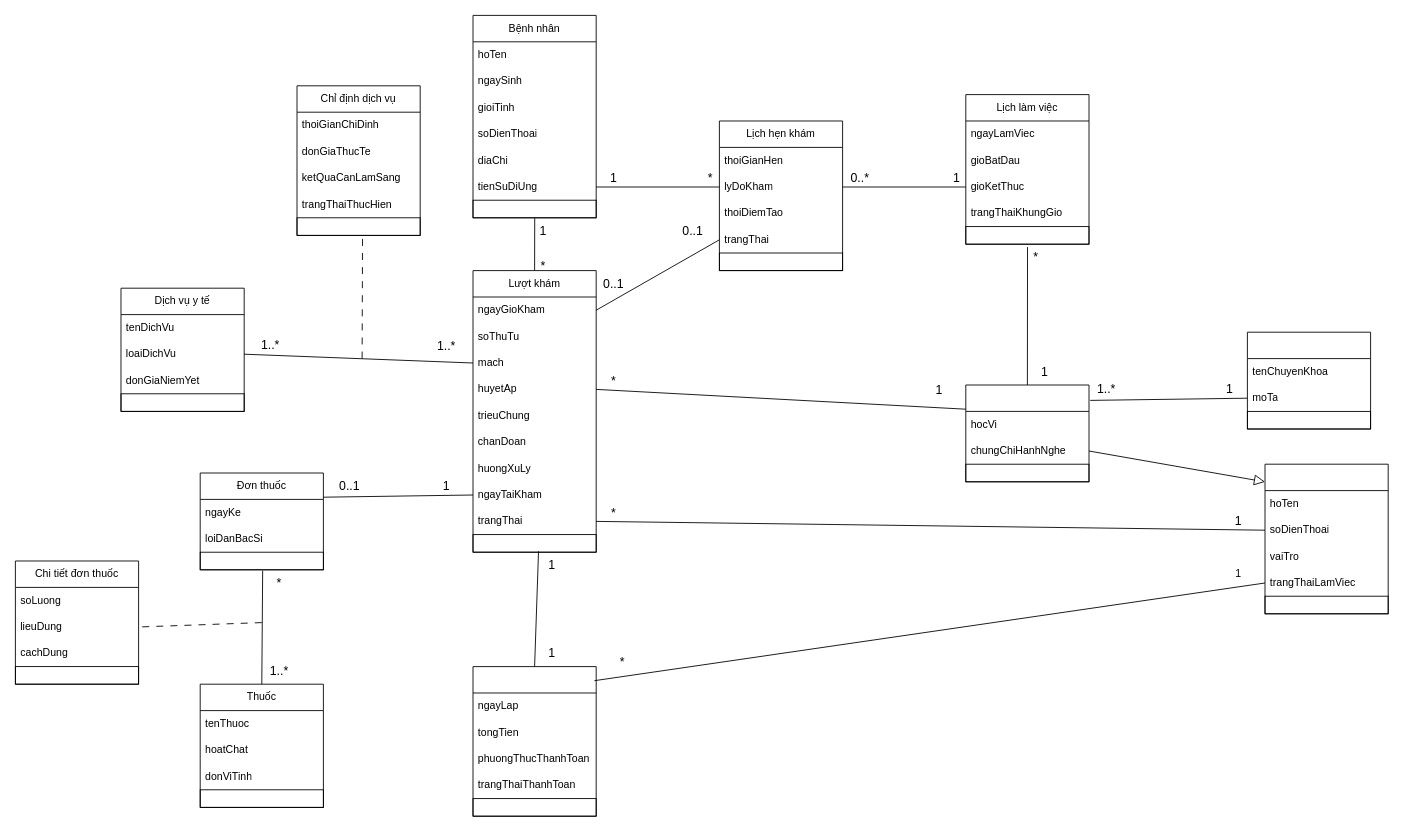
Some shapes in this 1404 by 832 pixel diagram are drawn without their labels. The shapes that lost their labels are listed below. From the top down, each one's box as (x1, y1, x2, y2) in pixels, then its label:
(1247, 331, 1371, 429): Chuyên khoa
(965, 384, 1089, 482): Bác sĩ
(1264, 463, 1388, 614): Nhân Viên
(472, 666, 596, 816): Hóa đơn
